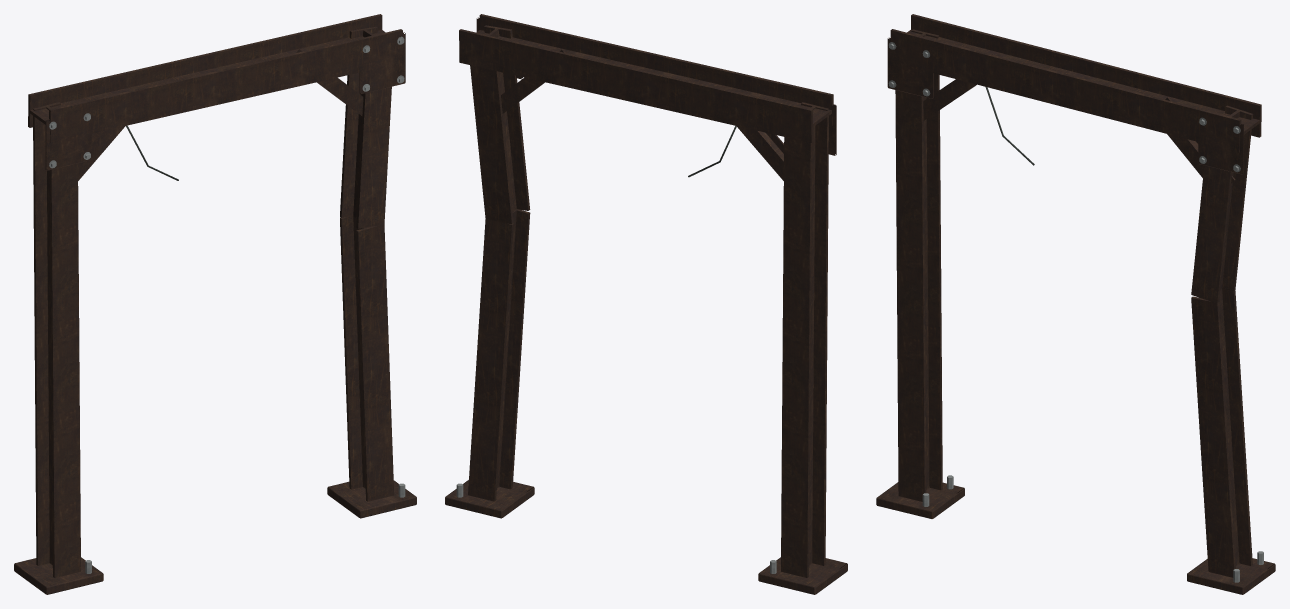
Rendered from lod1_NOT_APPROVED.glb.
3 views of the same model, side by side, from view 1: azimuth 30°, elevation 25°; view 2: azimuth 150°, elevation 25°; view 3: azimuth 330°, elevation 25° (orthographic).
Parts seen in each view (by area): view 1: f3_oxidized_iron_surface, f3_bare_worn_steel_surface; view 2: f3_oxidized_iron_surface; view 3: f3_oxidized_iron_surface, f3_bare_worn_steel_surface.
Part boxes in pixels (x1=…): f3_oxidized_iron_surface: x1=14, y1=14, x2=416, y2=594; f3_bare_worn_steel_surface: x1=49, y1=36, x2=405, y2=573; f3_oxidized_iron_surface: x1=445, y1=14, x2=847, y2=594; f3_oxidized_iron_surface: x1=876, y1=14, x2=1275, y2=594; f3_bare_worn_steel_surface: x1=888, y1=42, x2=1263, y2=582.
Bounding box in the file's own units: 4.21 × 5.21 × 0.65.
3 materials, 3 textured.
